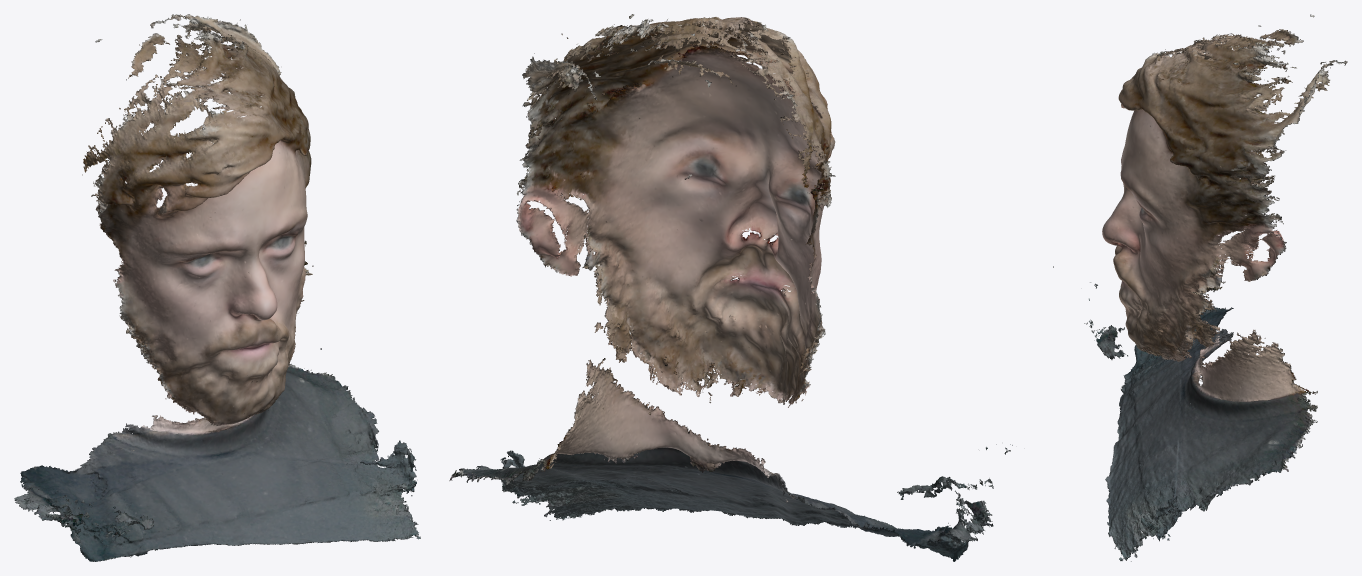
Rendered from tomhead.glb.
The picture shows the model from 3 angles, left to right: view 1: azimuth 30°, elevation 25°; view 2: azimuth 150°, elevation 25°; view 3: azimuth 270°, elevation 25°; orthographic projection. The views are drawn at different scales.
Parts seen in each view (by area): view 1: Mesh_0; view 2: Mesh_0; view 3: Mesh_0.
Boxes of the visible parts, bbox=[...] form: Mesh_0: bbox=[14, 14, 420, 561]; Mesh_0: bbox=[449, 14, 1012, 561]; Mesh_0: bbox=[1053, 14, 1347, 561].
Size of the model in its own units: 0.3375 by 0.4069 by 0.2374.
